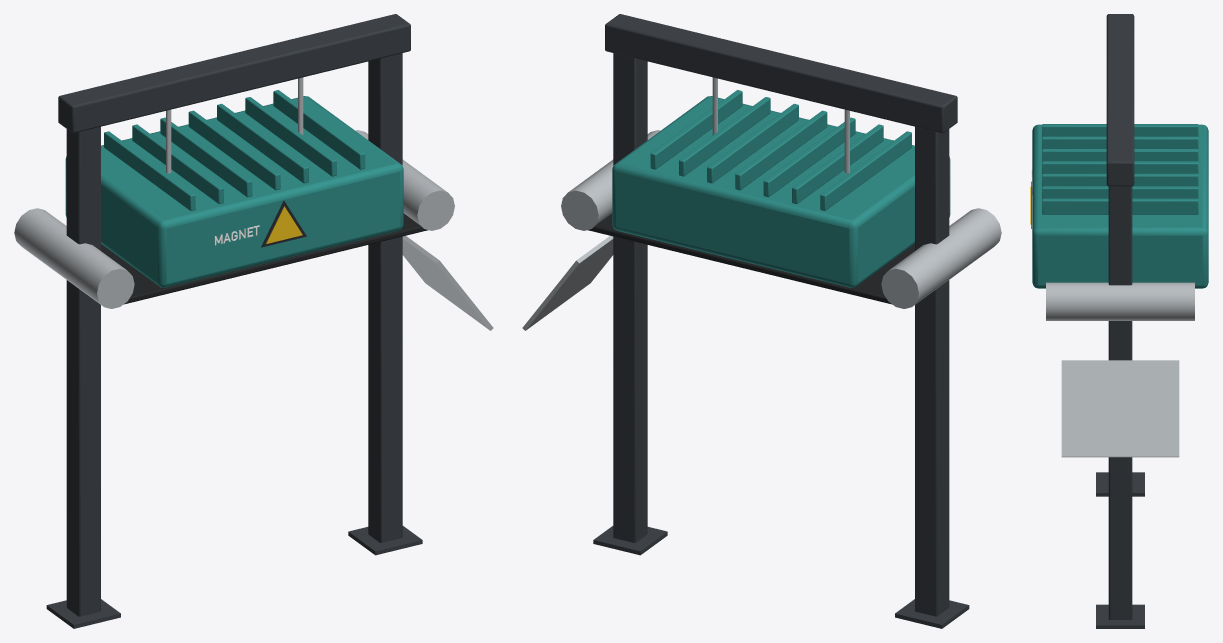
Rendered from overhead_magnet.fbx.
3 renders of one model, left to right at view 1: azimuth 30°, elevation 25°; view 2: azimuth 150°, elevation 25°; view 3: azimuth 270°, elevation 25°, orthographic. The views are drawn at different scales.
Parts seen in each view (by area): view 1: overhead_magnet; view 2: overhead_magnet; view 3: overhead_magnet.
Boxes of the visible parts, x1=… form: overhead_magnet: x1=14, y1=14, x2=493, y2=628; overhead_magnet: x1=522, y1=14, x2=1001, y2=628; overhead_magnet: x1=1030, y1=14, x2=1208, y2=628.
Bounding box in the file's own units: 2.15 × 2.62 × 0.91.
